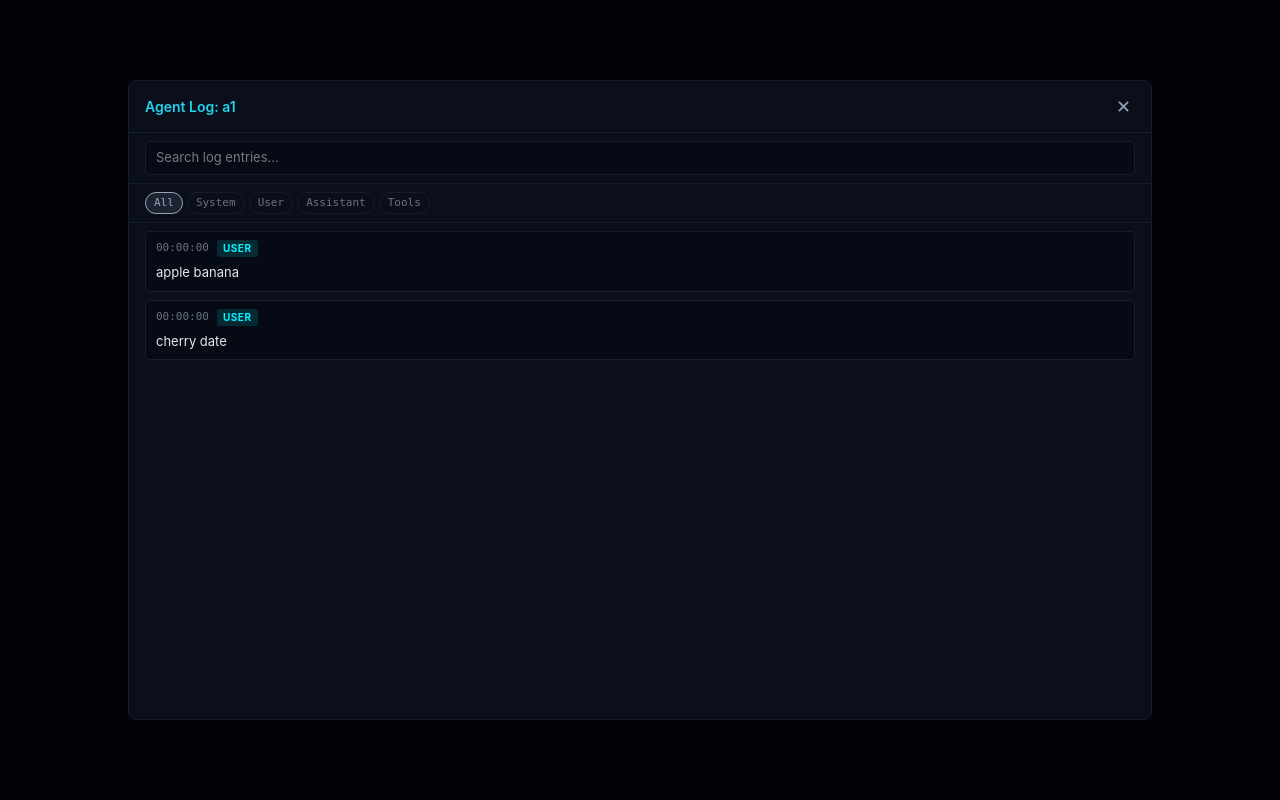
Scenario: LogViewer › filters entries by search term in content
Type "apple" into the field with placeholder "Search log entries..." at (640, 158), box [145, 141, 1135, 174]
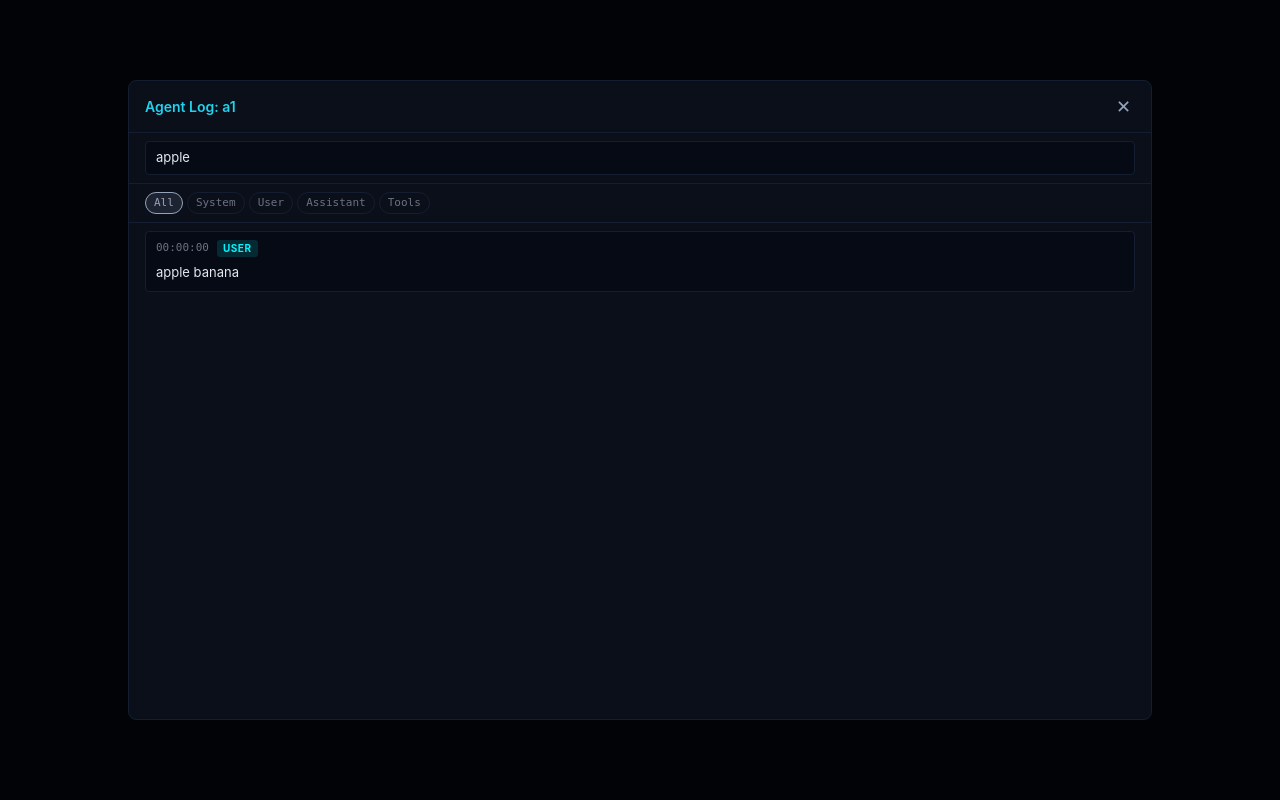
Expected: the text "apple banana" is shown, [156, 264, 239, 280]
Expected: the text "cherry date" is gone
